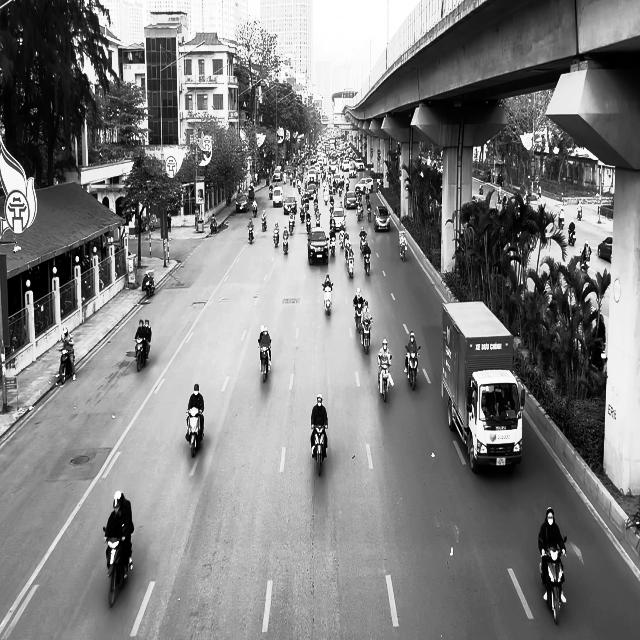car: (307, 227, 329, 265), (374, 204, 391, 232), (597, 236, 612, 262), (331, 208, 346, 231), (235, 193, 249, 212), (283, 195, 297, 214), (344, 190, 358, 208), (272, 186, 283, 207)
motorbike: (103, 526, 133, 608), (540, 536, 566, 624), (185, 407, 204, 458), (311, 424, 328, 476), (404, 344, 420, 390), (58, 346, 76, 384), (378, 359, 392, 402), (134, 336, 150, 372), (258, 340, 271, 382), (360, 317, 372, 354), (322, 282, 333, 315), (142, 270, 154, 298), (345, 249, 354, 278), (354, 304, 363, 332), (580, 248, 590, 272), (399, 239, 407, 261), (363, 251, 370, 275), (359, 232, 367, 252), (282, 232, 289, 254), (329, 234, 336, 256), (568, 229, 576, 245), (248, 224, 254, 243), (273, 229, 279, 247), (261, 217, 267, 232), (252, 203, 257, 217)
truck: (441, 299, 525, 473)
